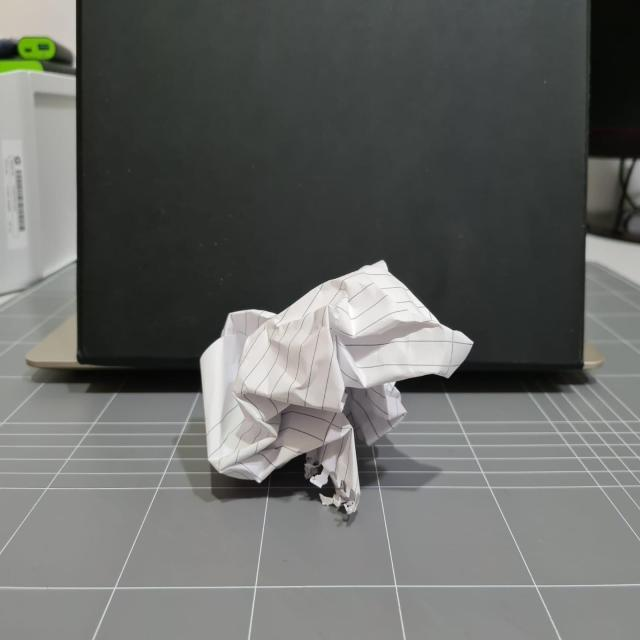cardboard paper: (199, 260, 471, 512)
